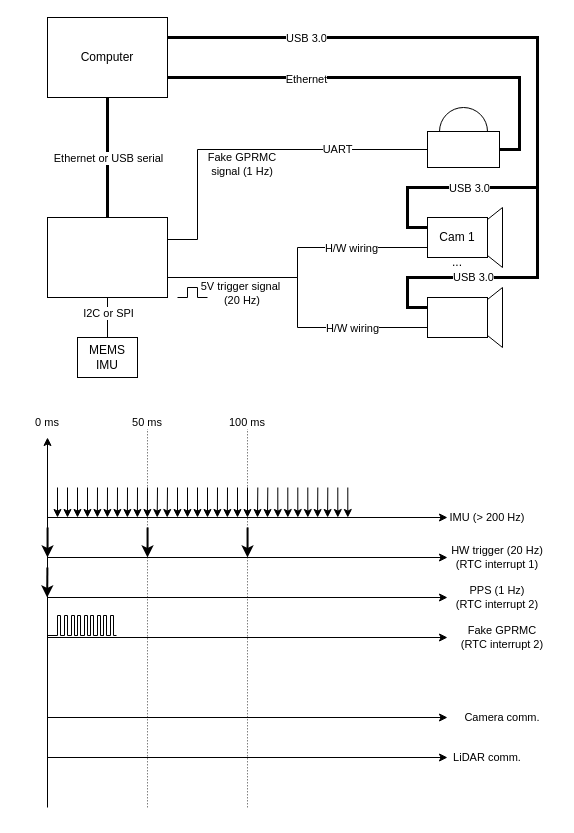
This 574x833 diagram has some shape labels left out. The centre of each missing label's shape, as x and y in pixels:
"Cam N" belongs at point (457, 317).
"MCU (STM32F446RE)" belongs at point (107, 257).
